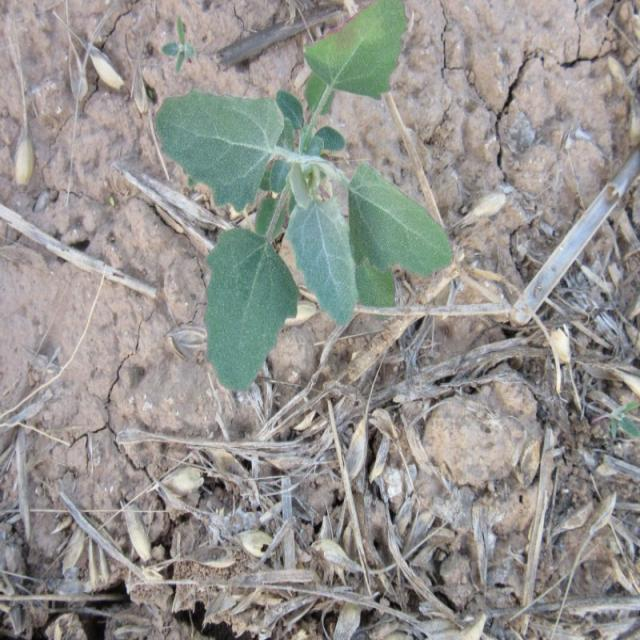ca: (151, 95, 453, 325)
